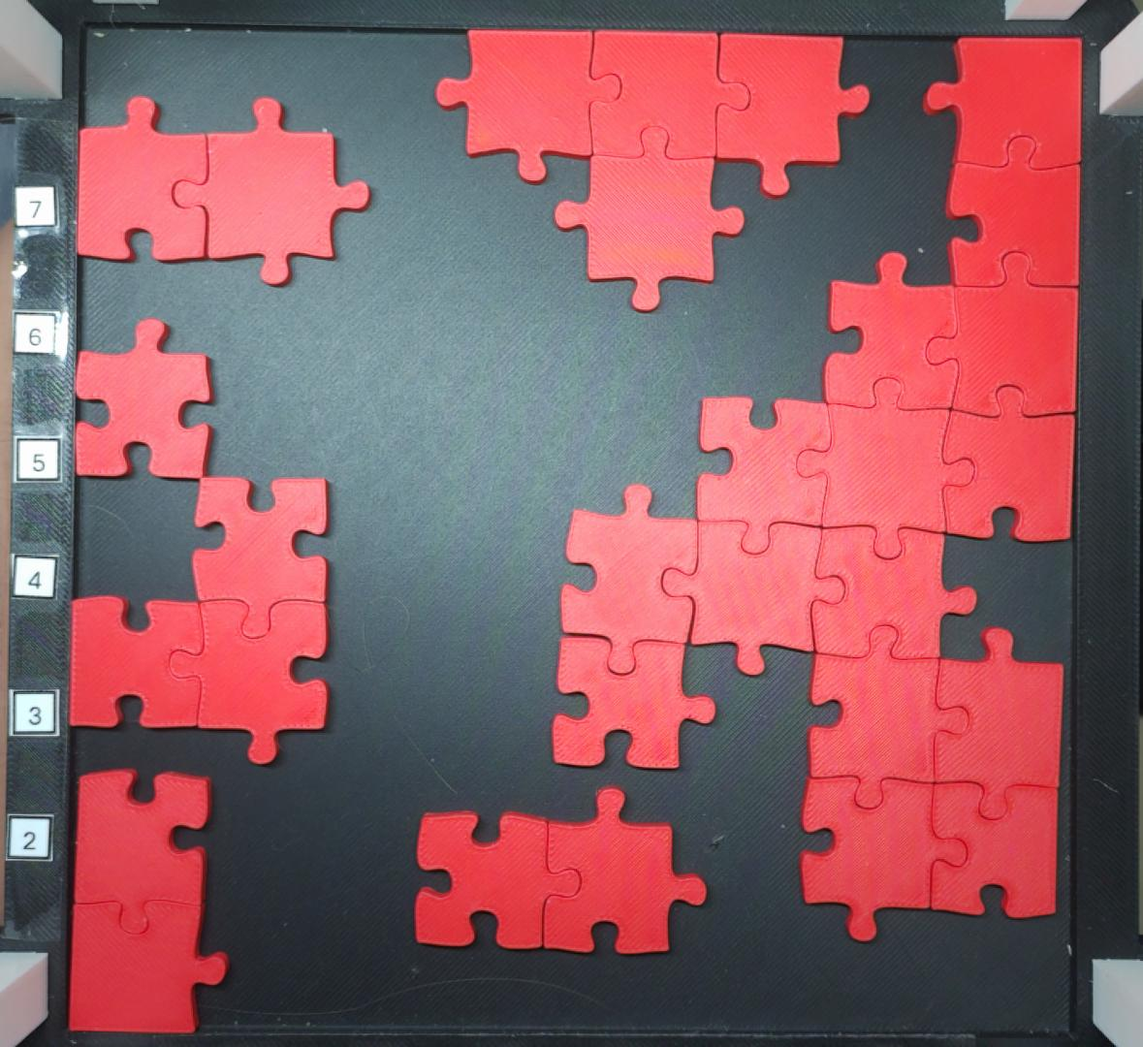p_1: (71, 316, 215, 485)
p_2: (74, 95, 372, 287), (411, 783, 709, 959), (63, 765, 230, 1036)
p_3: (68, 474, 333, 767)
p_4: (434, 25, 872, 314)
p_m: (549, 34, 1084, 944)
